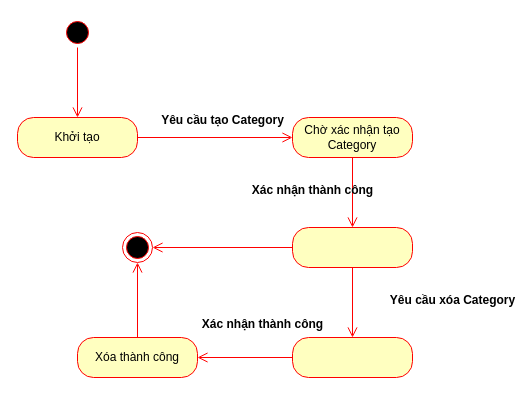
The diagram is 532 pixels wide and 395 high, and some of its shapes have lost their labels. Each missing label, with the centre of its shape:
Chờ xác nhận xóa: (352,357)
Tạo thành công Category: (352,247)
